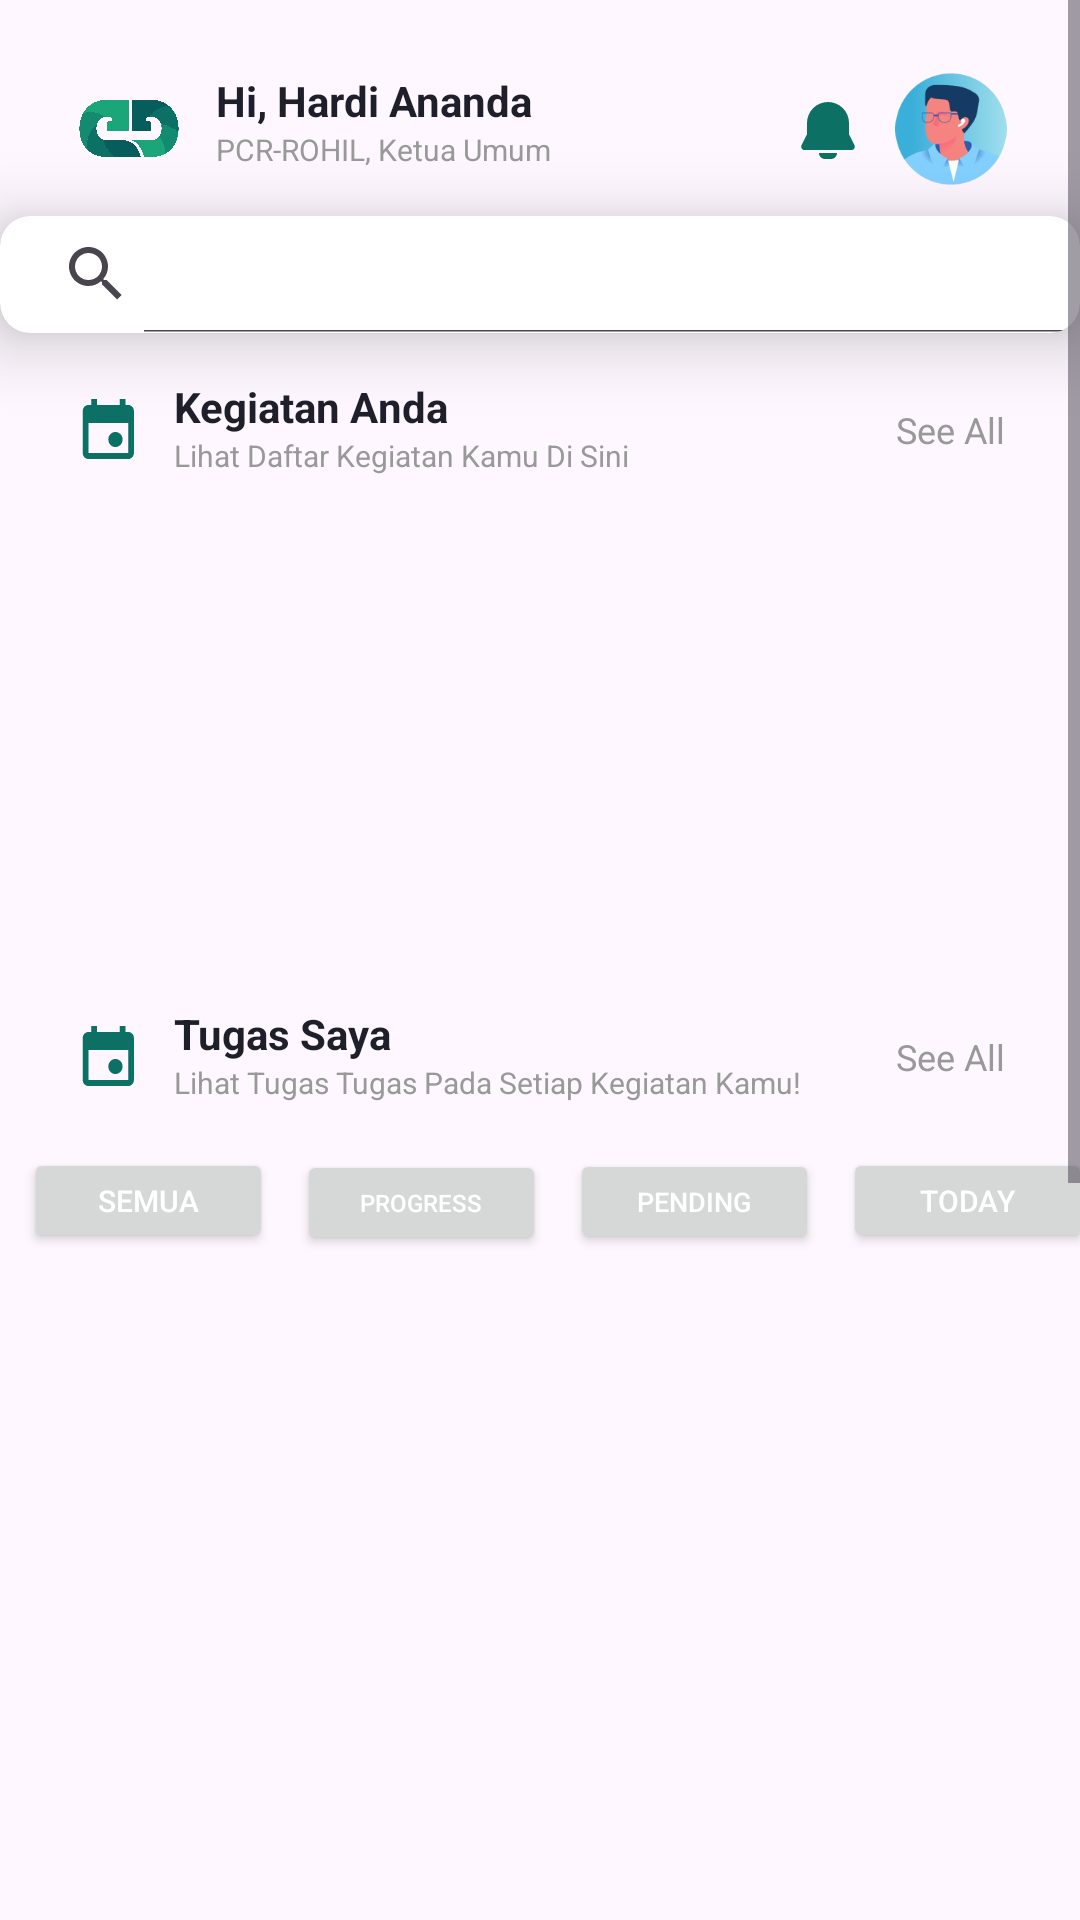

Icons on this 1080×1920 Android screen, each with its box as (x1, y1, x2, y2):
man: (895, 73, 1007, 185)
mingcute notification: (801, 102, 855, 159)
symbols event: (82, 399, 134, 459), (82, 1026, 134, 1086)
